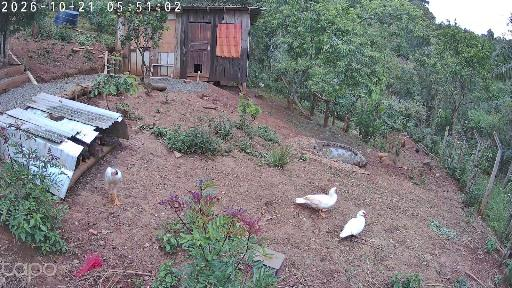frango: (106, 166, 124, 209), (73, 140, 90, 164), (95, 133, 121, 147), (90, 138, 105, 159)
galinha: (375, 149, 388, 163), (414, 148, 420, 154)
galo: (259, 80, 265, 90), (402, 140, 406, 150)
pato: (295, 188, 339, 216), (339, 210, 366, 243)
